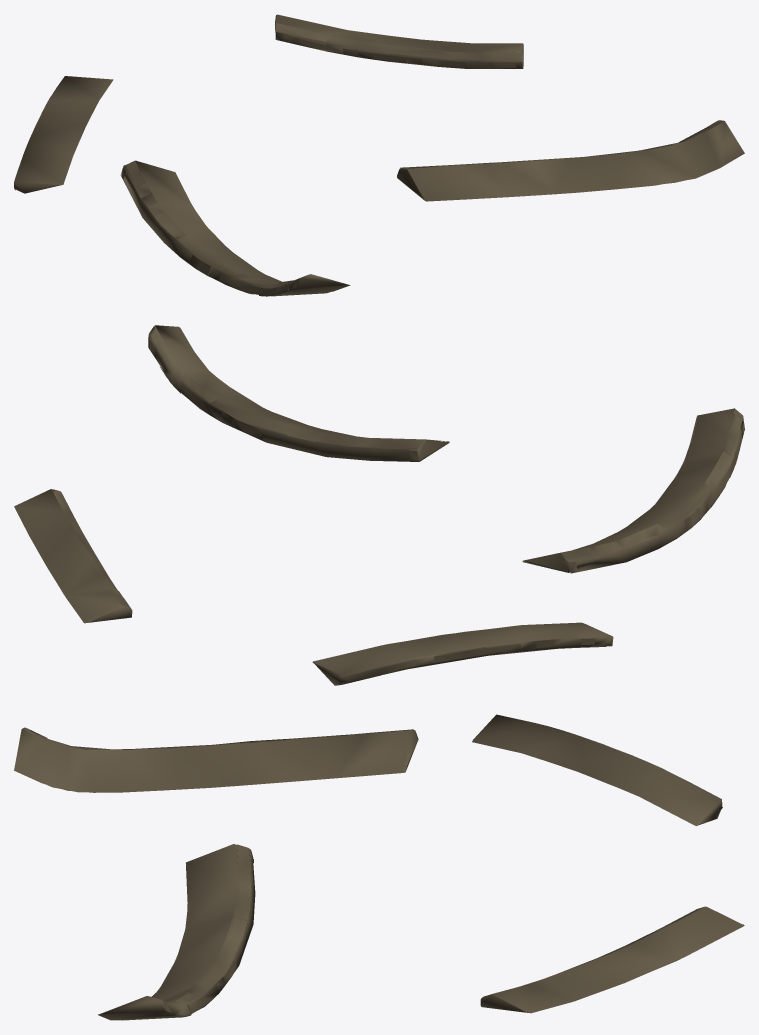
File: organic-remains.lod1.glb
3 views of the same model, one above another, from view 1: azimuth 30°, elevation 25°; view 2: azimuth 150°, elevation 25°; view 3: azimuth 270°, elevation 25° (orthographic). The views are drawn at different scales.
Visible parts, largest first — view 1: organic-remains; view 2: organic-remains; view 3: organic-remains.
Boxes of the visible parts, <box> form: organic-remains: <box>14,14,744,296</box>; organic-remains: <box>14,325,744,685</box>; organic-remains: <box>14,714,744,1020</box>.
Bounding box in the file's own units: 1.17 × 0.0931 × 1.13.
